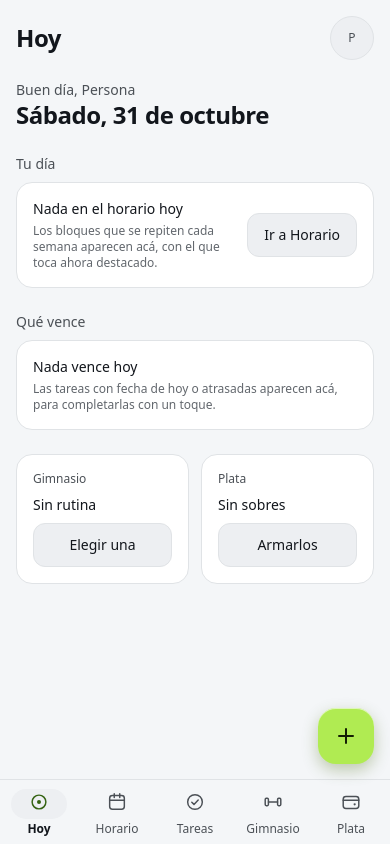
it: esqueleto de la aplicación › Ajustes muestra las preferencias guardadas en el perfil
Click the link named "Ajustes" at {"x": 352, "y": 38}, box [330,16,374,60]
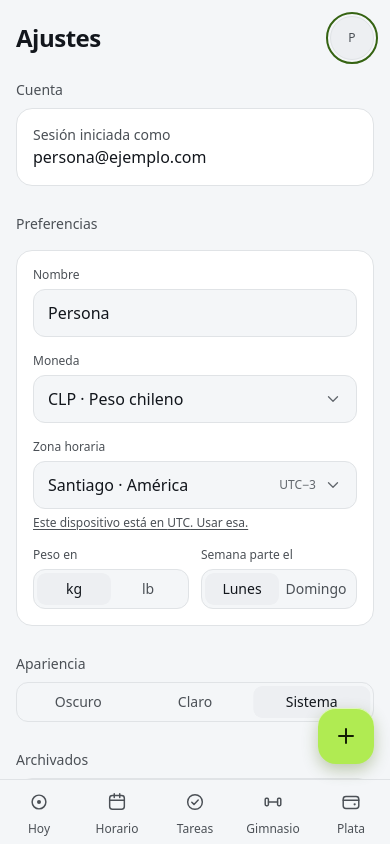
Check: the field labelled "Nombre" holds "Persona", box [33,289,357,337]
Check: the button with aria-label "Moneda: CLP · Peso chileno" is shown, box [33,375,357,423]
Check: the button with aria-label "Zona horaria: Santiago · América" is shown, box [33,461,357,509]
